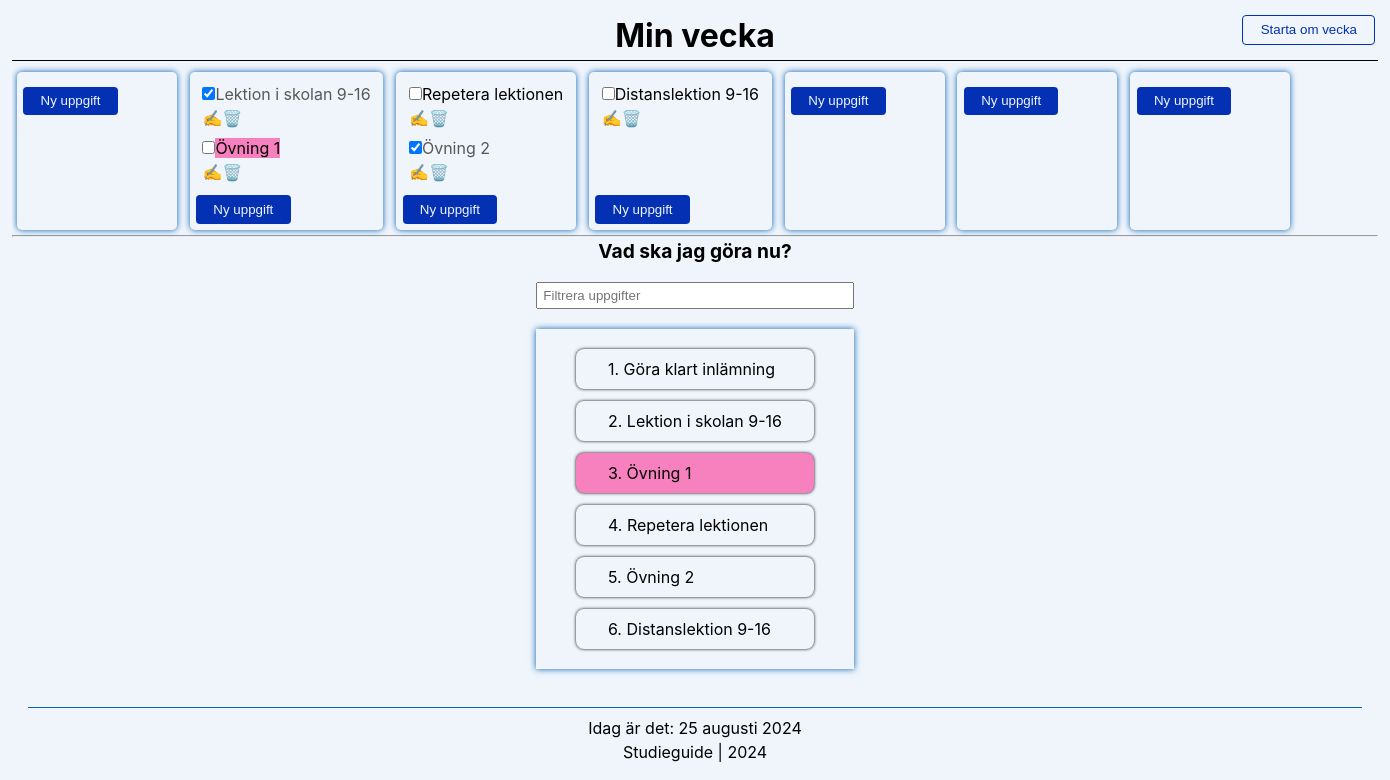
Edit function › Works to edit text and use the save button
Step 1. Click the 2nd text with test id "edit-button" → (419, 118), box 409,106 -> 429,130
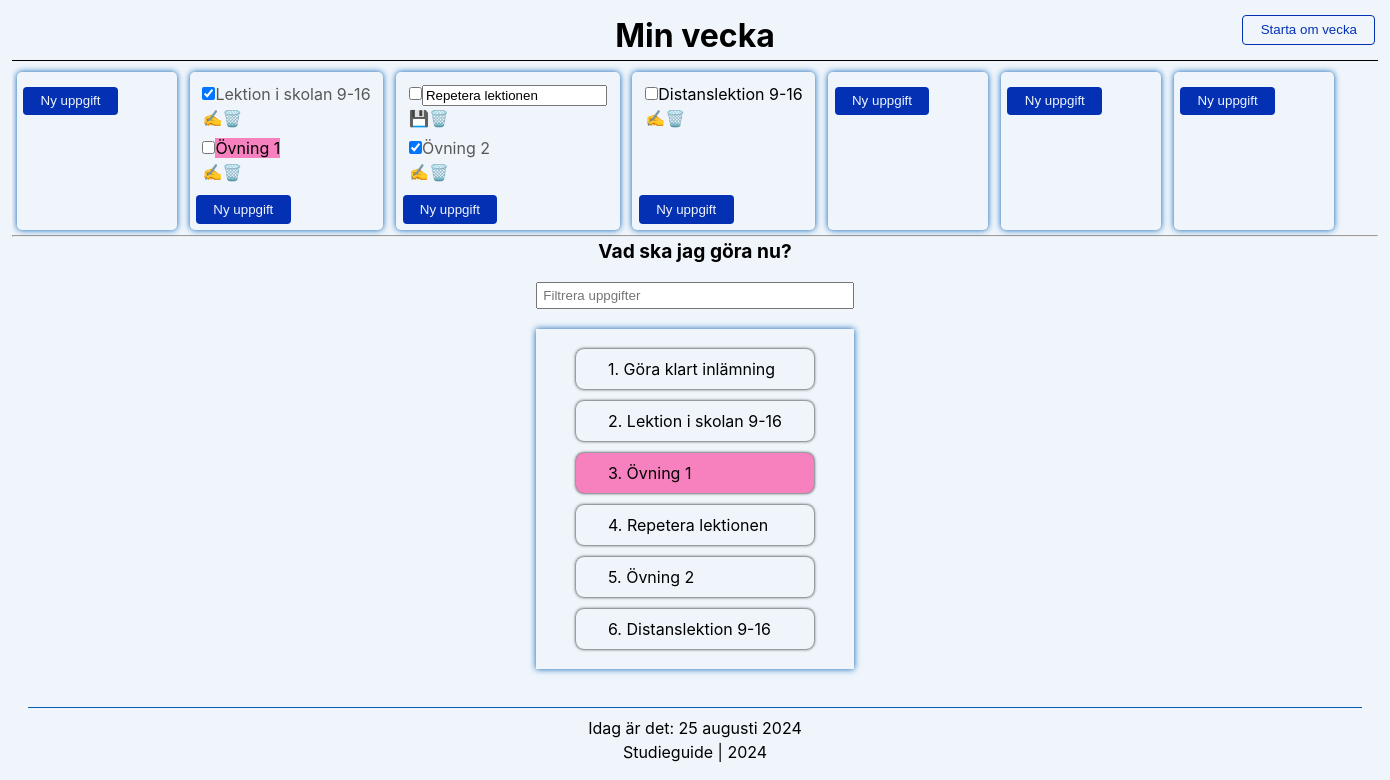
Step 2. Replace the text in the field with test id "edit-input" with "react testing" → (515, 96), box 422,85 -> 607,106
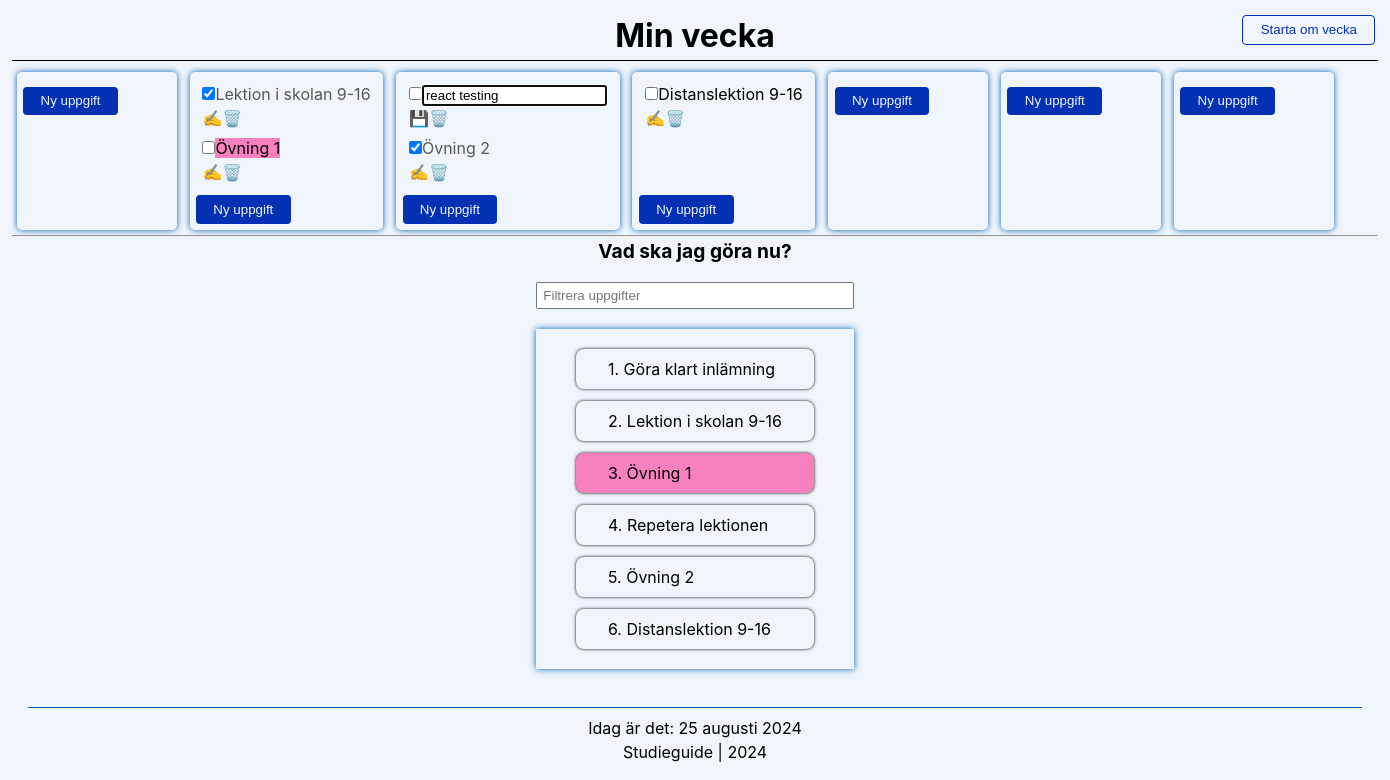
Step 3. Click the text with test id "save-button" → (419, 118), box 409,106 -> 429,130
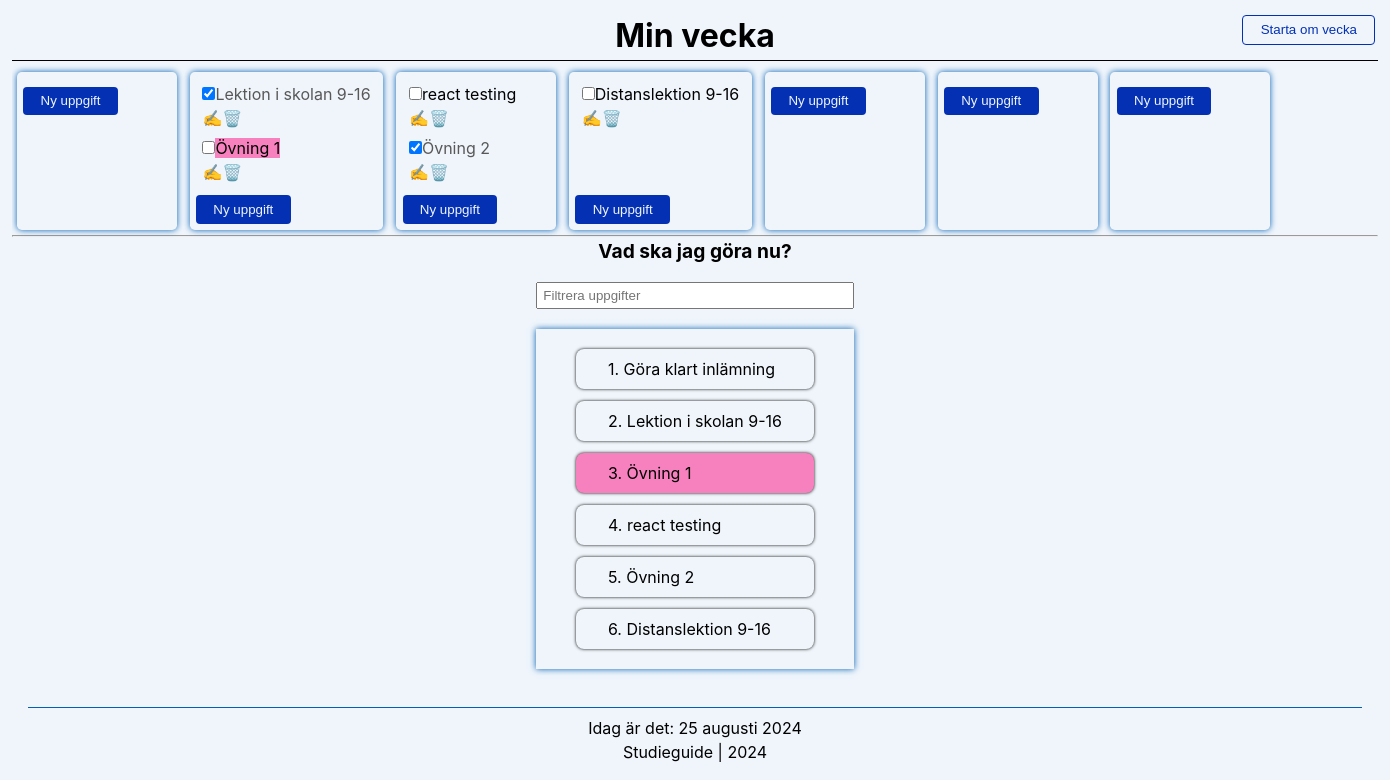
Check: the text "react testing" is shown, box 422,84 -> 516,104
